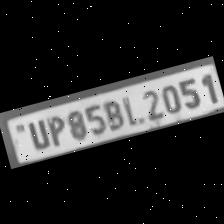0: (156, 80, 182, 116)
1: (195, 68, 222, 104)
2: (135, 84, 164, 122)
5: (174, 73, 203, 110), (80, 100, 108, 136)
8: (61, 105, 88, 142)
B: (98, 94, 125, 132)
L: (118, 91, 142, 128)
P: (42, 110, 69, 148)
U: (23, 116, 51, 150)
